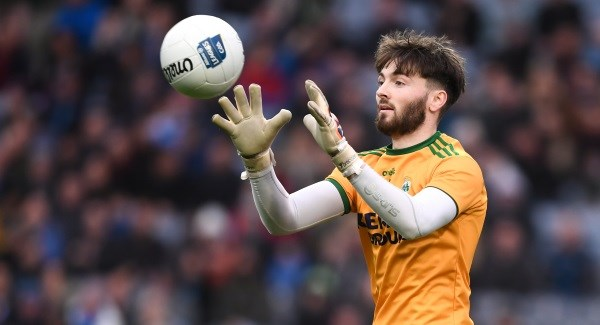ball: (159, 22, 245, 98)
player: (295, 27, 498, 308)
